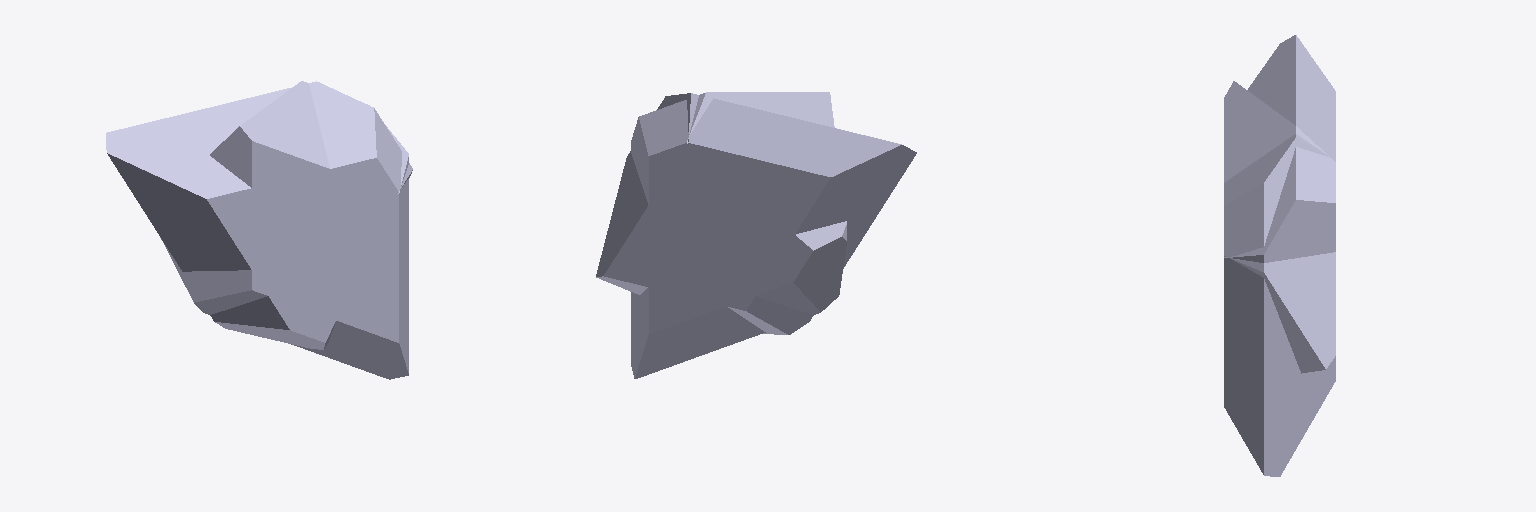
Rendered from quartz-brazil-twin.obj.
The picture shows the model from 3 angles: view 1: azimuth 30°, elevation 25°; view 2: azimuth 150°, elevation 25°; view 3: azimuth 270°, elevation 25°; orthographic projection.
Size of the model in its own units: 2.48 by 2.48 by 0.8.